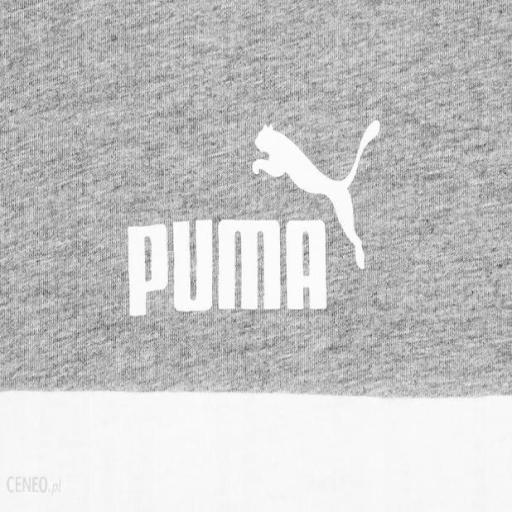Puma: (248, 118, 383, 271)
